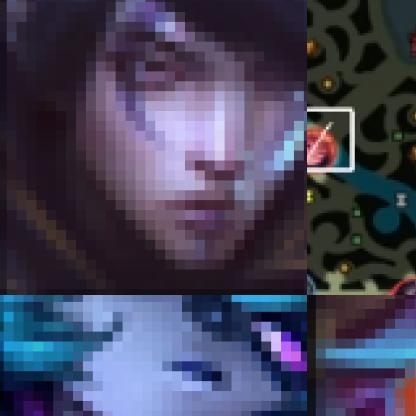Aphelios: (0, 0, 306, 294)
Lillia: (307, 295, 415, 415)
Vex: (0, 295, 306, 415)
Zoe: (307, 125, 342, 172)
